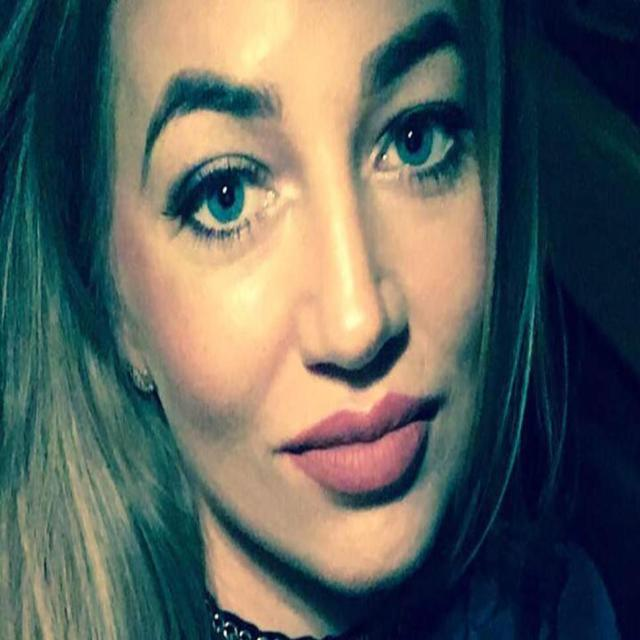mobile_phonerotation: (2, 1, 635, 637)
